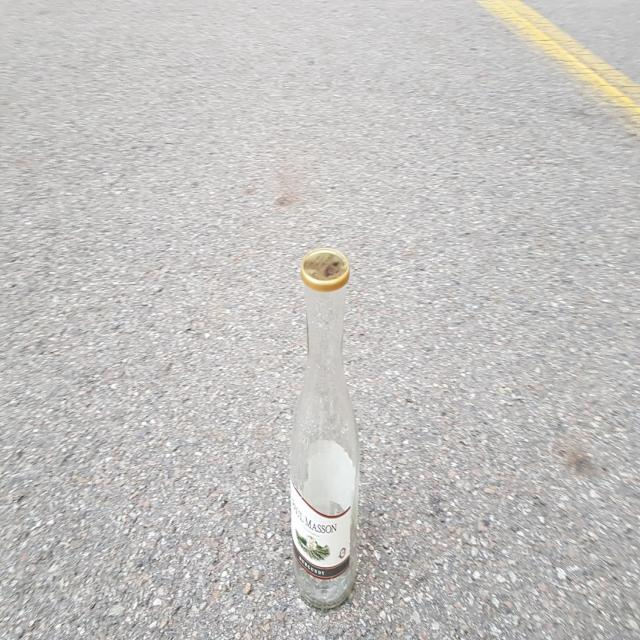glass: (290, 248, 359, 609)
